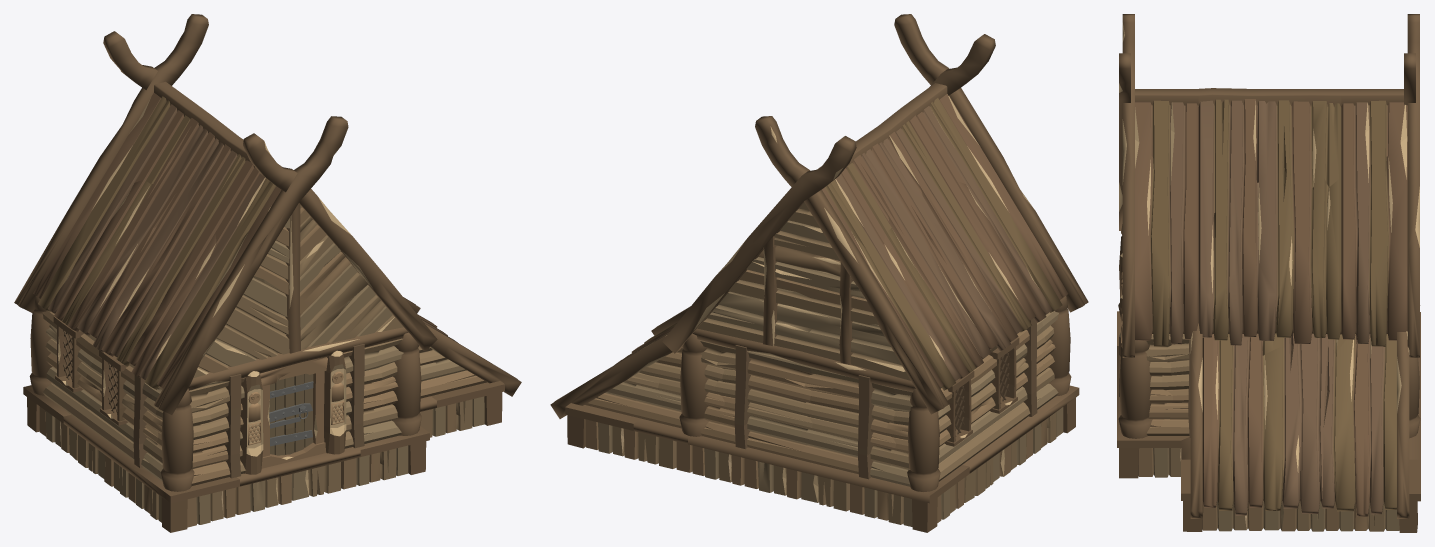
File: rpgpp_lt_building_03 -col.glb
3 views of the same model, side by side, from view 1: azimuth 30°, elevation 25°; view 2: azimuth 150°, elevation 25°; view 3: azimuth 270°, elevation 25° (orthographic). The views are drawn at different scales.
Parts seen in each view (by area): view 1: rpgpp_lt_building_03 -col; view 2: rpgpp_lt_building_03 -col; view 3: rpgpp_lt_building_03 -col.
Part boxes in pixels (x1,y1,x2,y2): rpgpp_lt_building_03 -col: (14,14,521,532); rpgpp_lt_building_03 -col: (550,14,1088,532); rpgpp_lt_building_03 -col: (1117,14,1420,532).
Bounding box in the file's own units: 11.94 × 10.7 × 7.74.
1 material, 1 textured.
